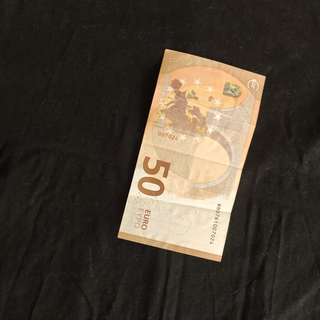50EUROBack: (115, 47, 267, 264)
